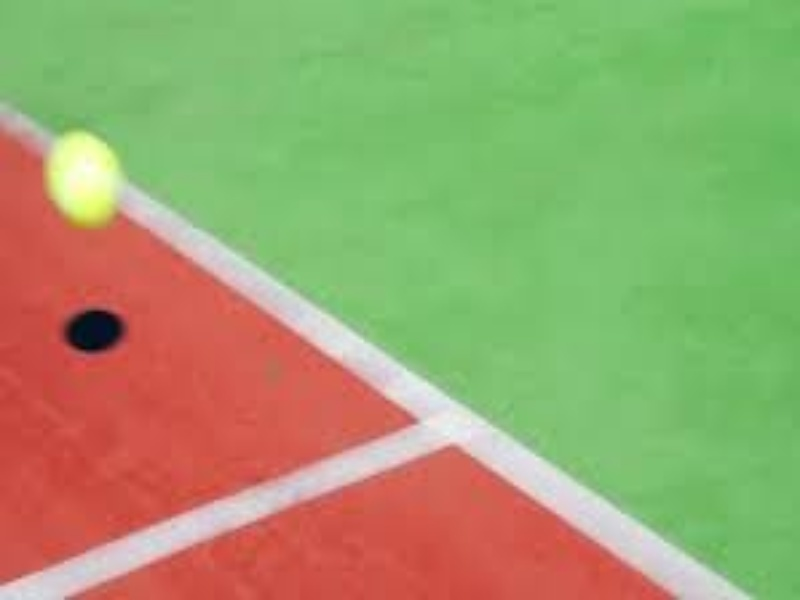tennis ball: (36, 121, 150, 250)
